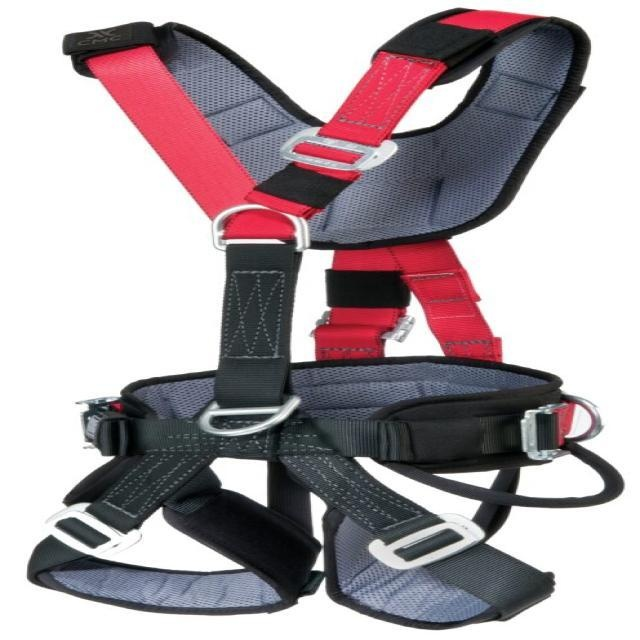Arnes_seguridad: (13, 9, 640, 628)
